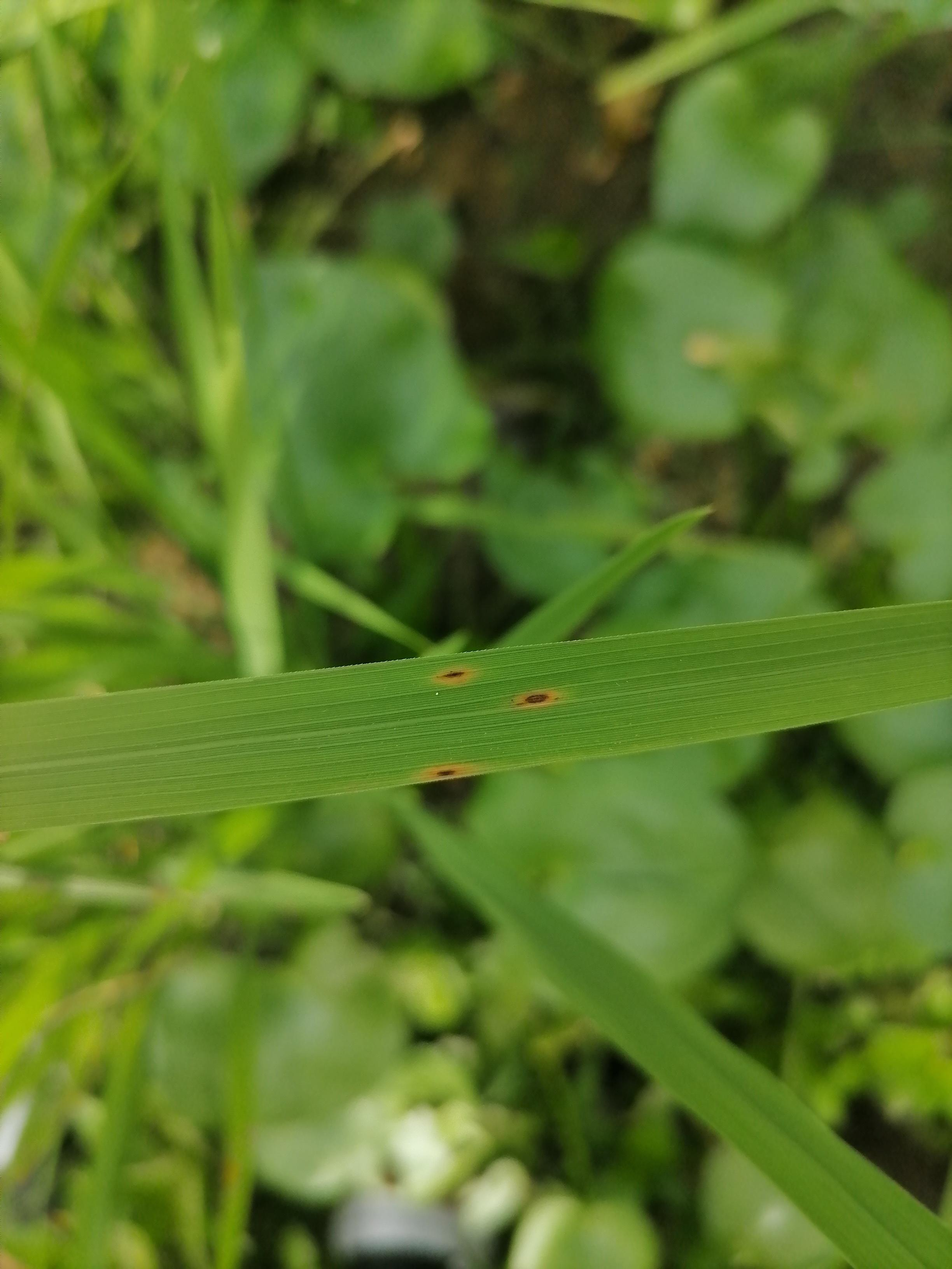Brown spot: (517, 680, 581, 727), (434, 661, 482, 696), (422, 752, 476, 783)
